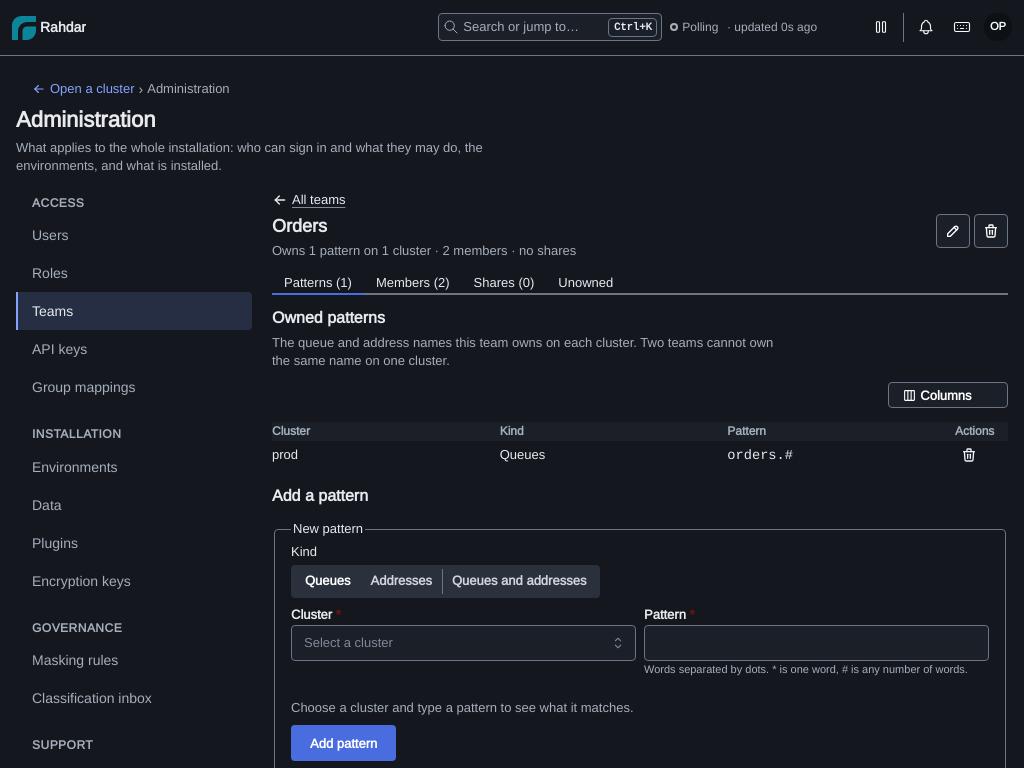
Test: the Teams tab › renames a team from its page and stays there
The image size is (1024, 768).
Click the button named "Rename Orders" at (953, 231), box [936, 214, 970, 248]
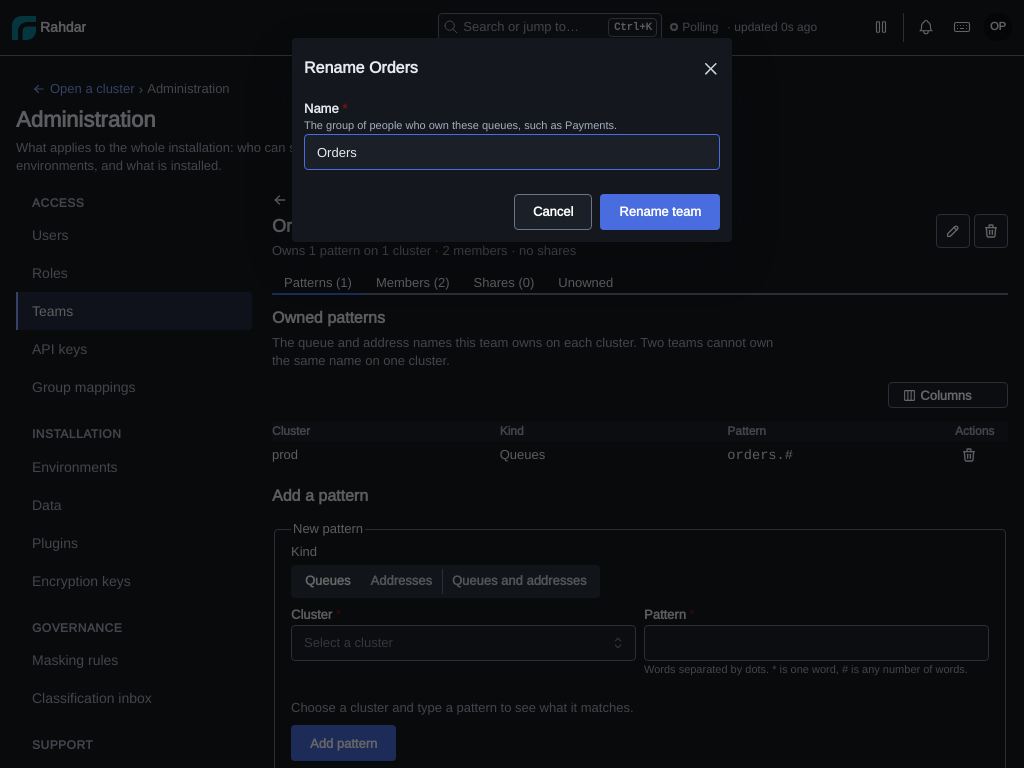
Replace the text in the field labelled "Name *" with "Order desk" at (512, 152), box [304, 134, 720, 170]
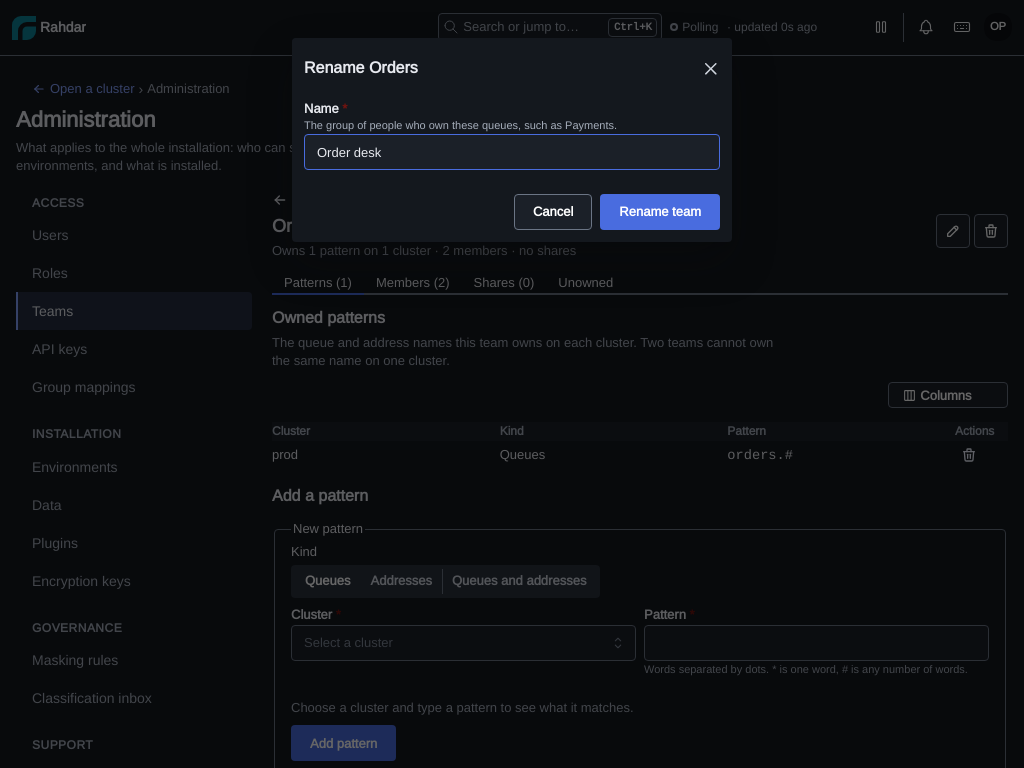
Click the button "Rename team" at (660, 212), box [600, 194, 720, 230]
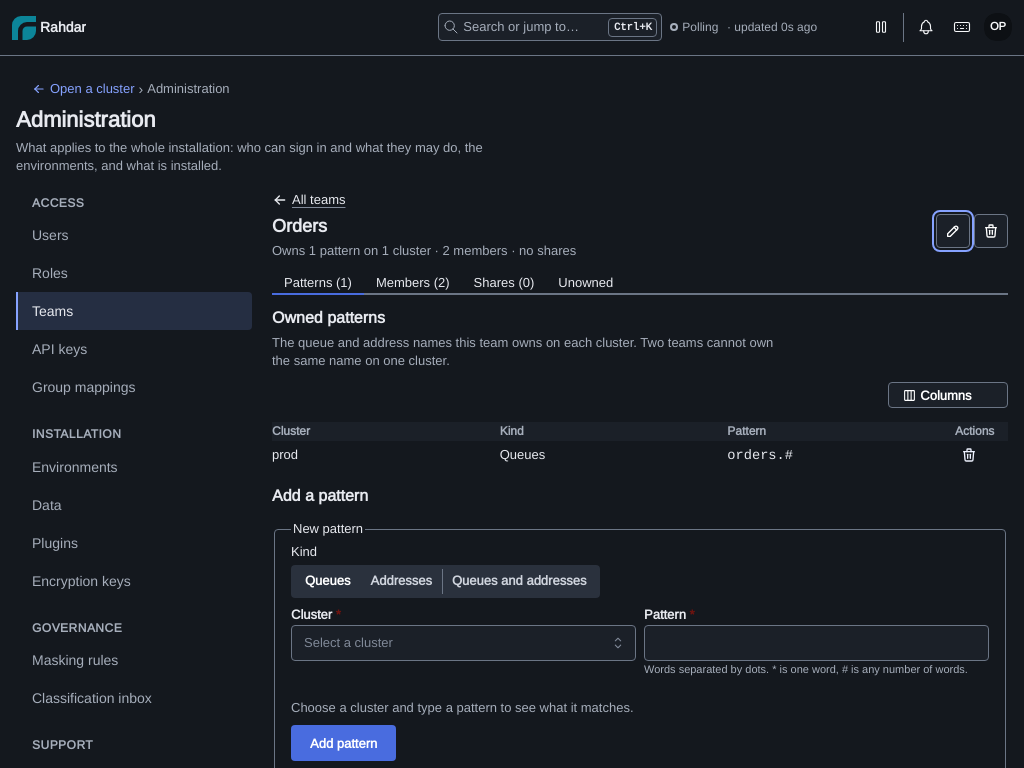
Now the heading "Rename Orders" is gone
